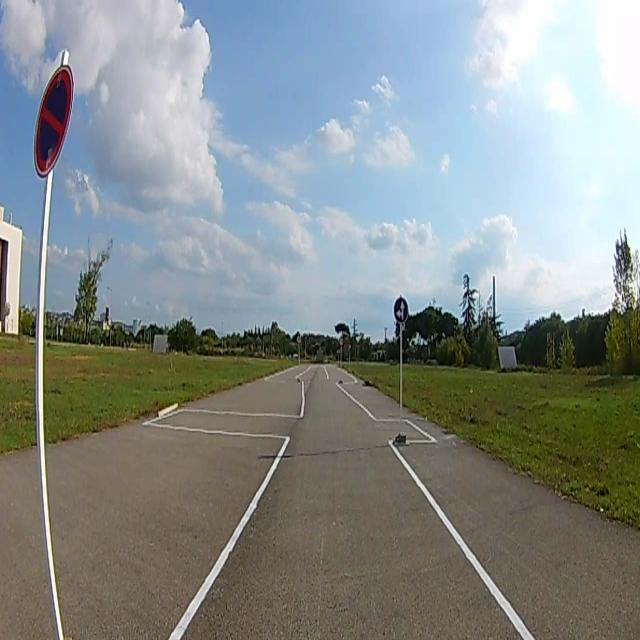ilerisol: (394, 298, 408, 324)
parkyasak: (34, 67, 72, 172)
